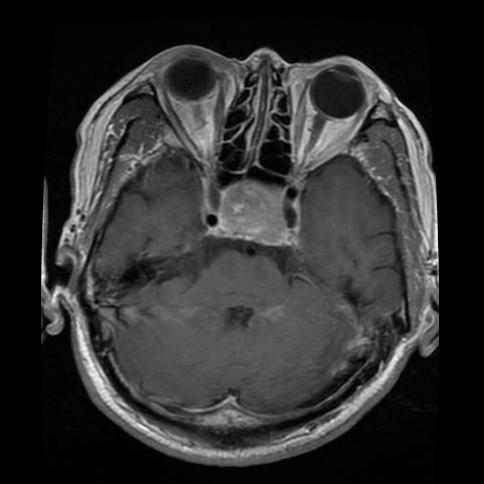Tumour-Pituitary: (196, 189, 306, 241)
